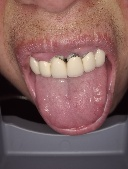tongue: (36, 80, 107, 130)
